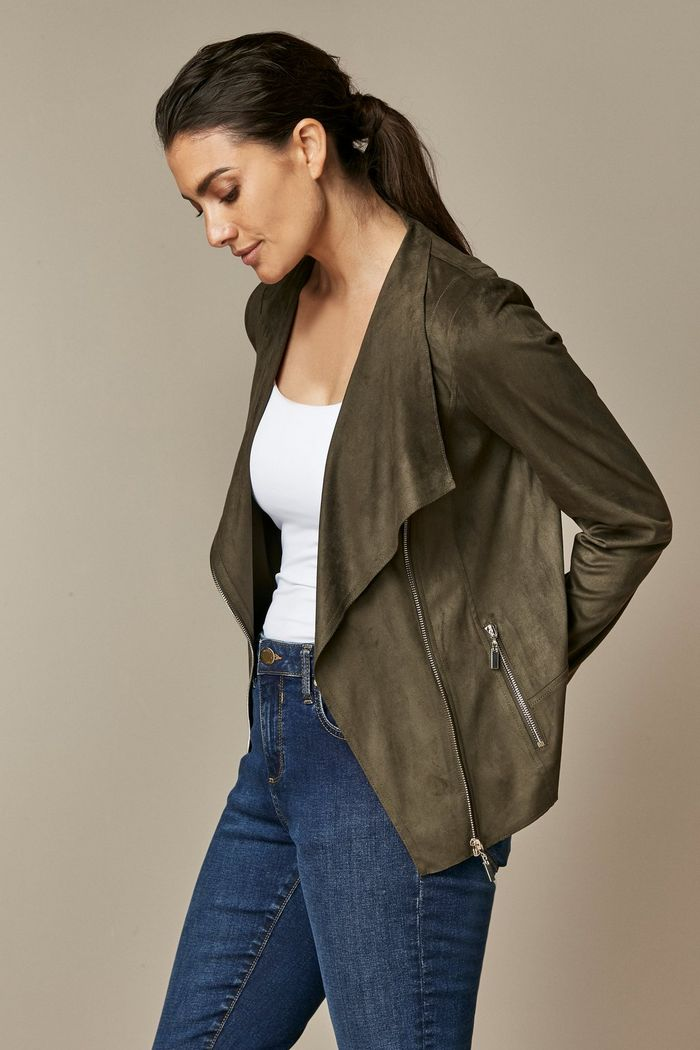F_W_suit jacket: (192, 266, 645, 788)
